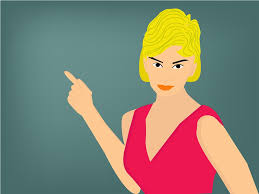hand: (51, 66, 102, 117)
